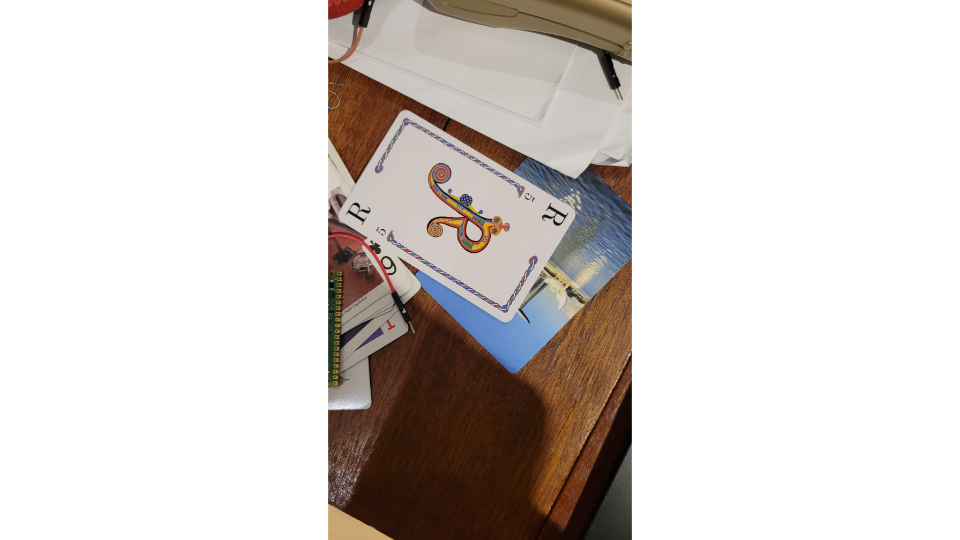R: (337, 106, 579, 325)
